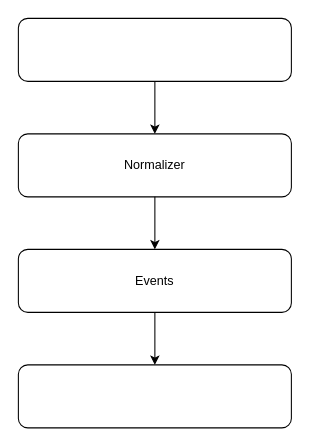
The diagram is 310 pixels wide and 446 high, and some of its shapes have lost their labels. Here are the shapes that lost their labels. From the top down, the box of each, then its label:
(17, 17, 291, 81): Plugin
(17, 364, 291, 428): Kernel
